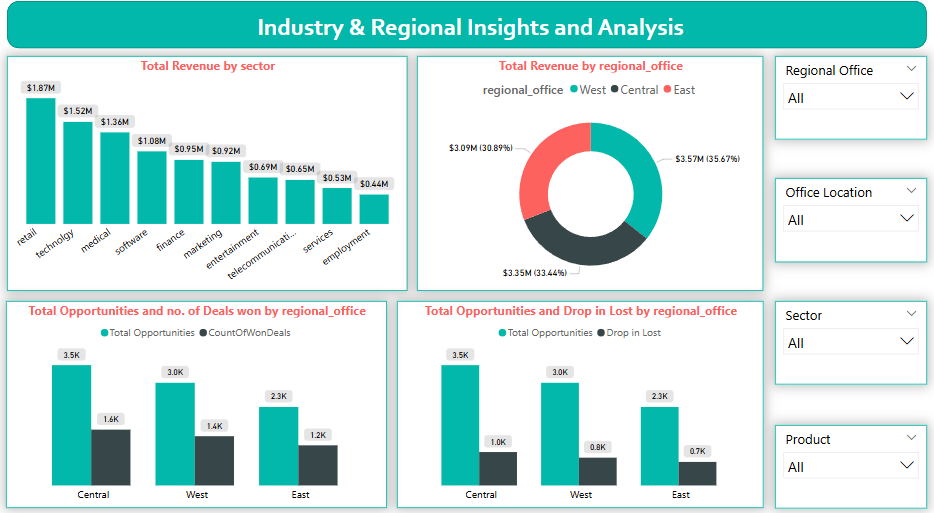

Layout of this report page (visuals, bound fields, positions):
{"tool":"powerbi","page":{"name":"Industry & Regional Insights","canvas":[1280,720],"ordinal":5},"visuals":[{"type":"columnChart","fields":{"Category":["accounts.sector"],"Y":["_measures.Total Revenue"]},"box":[22.4,86.6,531.8,312.2],"z":0},{"type":"donutChart","fields":{"Category":["sales_teams.regional_office"],"Y":["_measures.Total Revenue"]},"box":[567.6,86.6,460.1,312.2],"z":1000},{"type":"clusteredColumnChart","title":"Total Opportunities and no. of Deals won by regional_office","fields":{"Category":["sales_teams.regional_office"],"Y":["_measures.Total Opportunities","_measures.CountOfWonDeals"]},"box":[21.8,411.5,505.6,275.5],"z":2000},{"type":"clusteredColumnChart","fields":{"Category":["sales_teams.regional_office"],"Y":["_measures.Total Opportunities","_measures.Drop in Lost"]},"box":[540.9,411.5,487.1,275.5],"z":3000},{"type":"slicer","fields":{"Values":["accounts.office_location"]},"box":[1042.7,248,201.7,112],"z":4000},{"type":"slicer","fields":{"Values":["accounts.sector"]},"box":[1042.7,412.3,201.7,110.5],"z":5000},{"type":"slicer","fields":{"Values":["sales_teams.regional_office"]},"box":[1042.7,86.6,201.7,110.5],"z":6000},{"type":"shape","box":[22.4,13.4,1221.9,62.7],"z":7000},{"type":"textbox","box":[183.7,23.9,909.7,62.7],"z":8000},{"type":"slicer","fields":{"Values":["sales_pipeline.product"]},"box":[1042.7,576.6,201.7,110.5],"z":9000}]}

Visuals, with their boxes in screenshot pixels (x1, y1, x2, y2), scaled from the page's 1280x720 canvas onto the 934x513 screenshot:
columnChart - accounts.sector x _measures.Total Revenue: {"left": 16, "top": 62, "right": 404, "bottom": 284}
donutChart - sales_teams.regional_office x _measures.Total Revenue: {"left": 414, "top": 62, "right": 750, "bottom": 284}
"Total Opportunities and no. of Deals won by regional_office" clusteredColumnChart: {"left": 16, "top": 293, "right": 385, "bottom": 489}
clusteredColumnChart - sales_teams.regional_office x _measures.Total Opportunities: {"left": 395, "top": 293, "right": 750, "bottom": 489}
slicer - accounts.office_location: {"left": 761, "top": 177, "right": 908, "bottom": 256}
slicer - accounts.sector: {"left": 761, "top": 294, "right": 908, "bottom": 372}
slicer - sales_teams.regional_office: {"left": 761, "top": 62, "right": 908, "bottom": 140}
shape: {"left": 16, "top": 10, "right": 908, "bottom": 54}
textbox: {"left": 134, "top": 17, "right": 798, "bottom": 62}
slicer - sales_pipeline.product: {"left": 761, "top": 411, "right": 908, "bottom": 490}
